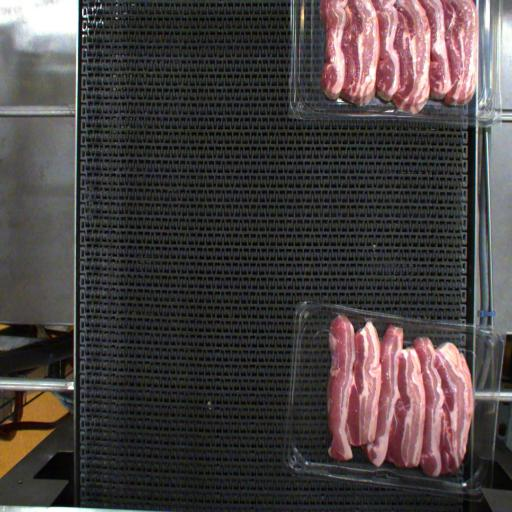packaging-error: (333, 307, 349, 320), (360, 314, 376, 327)
